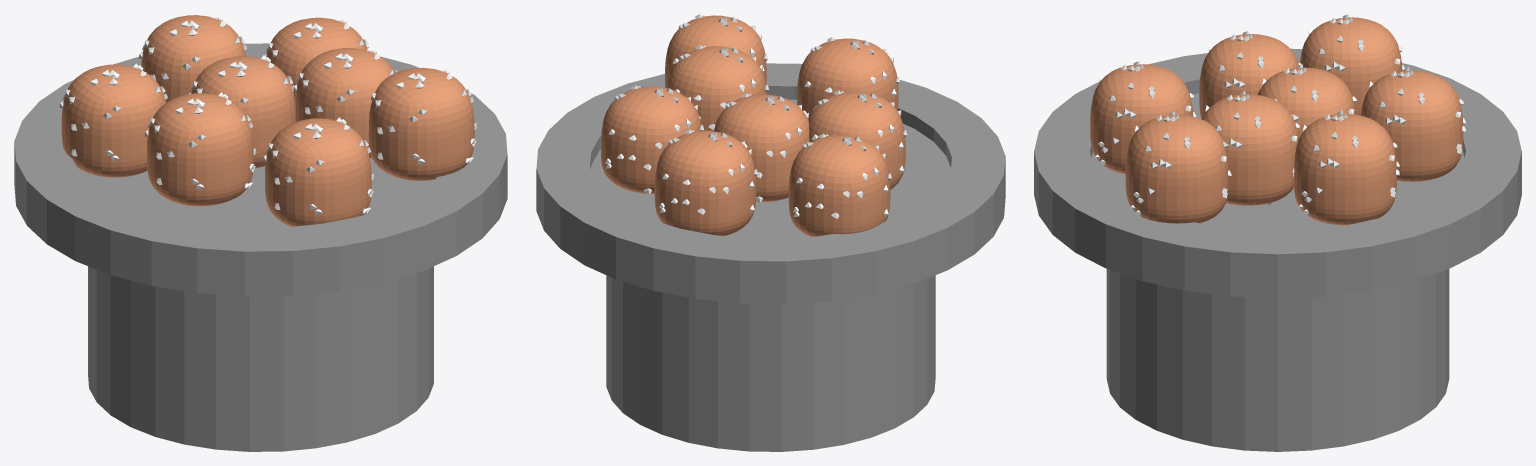
File: breadWithSalami.glb
3 views of the same model, side by side, from view 1: azimuth 30°, elevation 25°; view 2: azimuth 150°, elevation 25°; view 3: azimuth 270°, elevation 25° (orthographic). The views are drawn at different scales.
Visible parts, largest first — view 1: Cylinder, bread4, bread8, bread3, bread5, bread7, bread2, bread, bread6; view 2: Cylinder, bread, bread5, bread6, bread2, bread3, bread7, bread4, bread8; view 3: Cylinder, bread6, bread8, bread, bread7, bread3, bread5, bread4, bread2.
Boxes of the visible parts, x1,y1,x2,y2 form: Cylinder: (14,43,507,451); bread4: (144,92,256,206); bread8: (368,67,477,180); bread3: (262,117,374,226); bread5: (59,63,167,177); bread7: (293,47,397,157); bread2: (189,55,295,168); bread: (139,14,247,102); bread6: (264,16,369,100); Cylinder: (536,63,1005,451); bread: (654,129,757,235); bread5: (788,133,891,236); bread6: (601,85,703,194); bread2: (714,93,809,202); bread3: (797,37,900,119); bread7: (667,45,768,131); bread4: (808,90,907,189); bread8: (665,14,768,88); Cylinder: (1034,48,1521,451); bread6: (1293,110,1399,225); bread8: (1125,111,1231,223); bread: (1360,67,1465,181); bread7: (1202,91,1299,205); bread3: (1090,61,1196,174); bread5: (1300,14,1405,115); bread4: (1199,31,1302,118); bread2: (1257,64,1356,139).
Bounding box in the file's own units: 1.2 × 0.8609 × 1.2.
